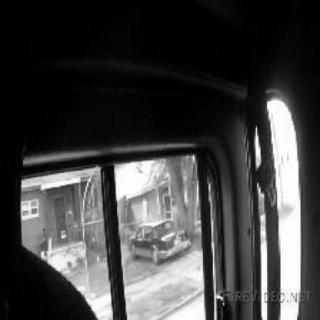other: (263, 100, 304, 306)
